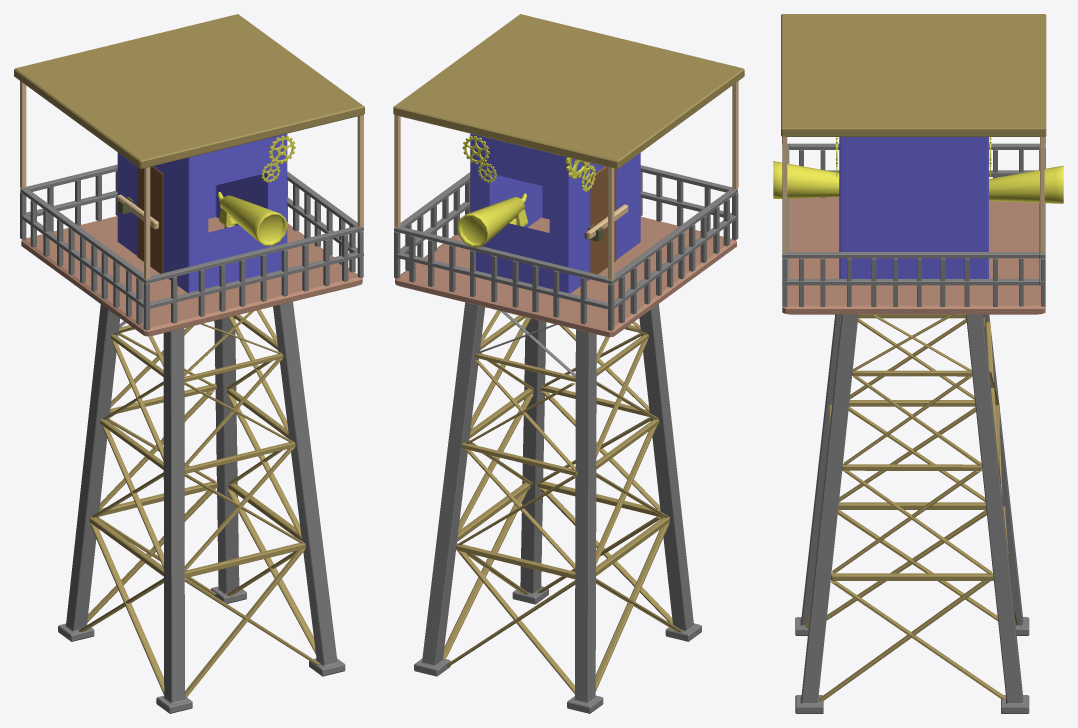
File: torre_vigilancia.fbx
3 renders of one model, left to right at view 1: azimuth 30°, elevation 25°; view 2: azimuth 150°, elevation 25°; view 3: azimuth 270°, elevation 25°, orthographic. The views are drawn at different scales.
Visible parts, largest first — view 1: TORRE_VIGILANCIA; view 2: TORRE_VIGILANCIA; view 3: TORRE_VIGILANCIA.
Boxes of the visible parts, <box> form: TORRE_VIGILANCIA: <box>14,14,364,713</box>; TORRE_VIGILANCIA: <box>393,14,744,713</box>; TORRE_VIGILANCIA: <box>773,14,1063,713</box>.
Size of the model in its own units: 575 by 1385 by 616.
